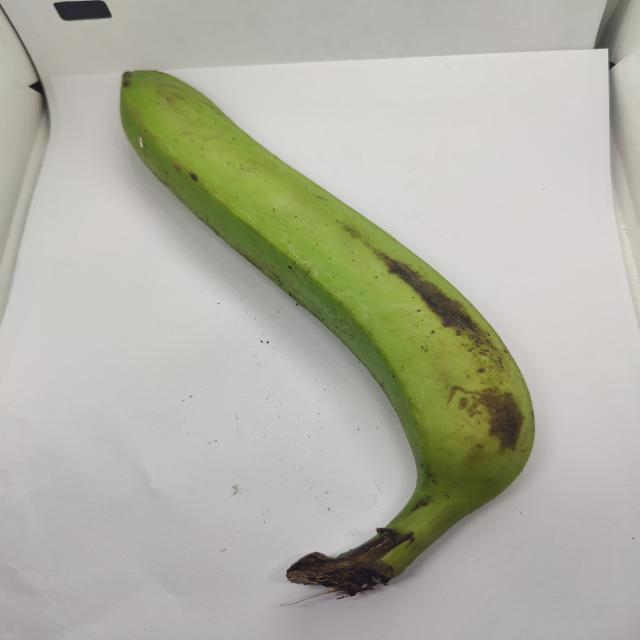Raw: (84, 55, 592, 615)
